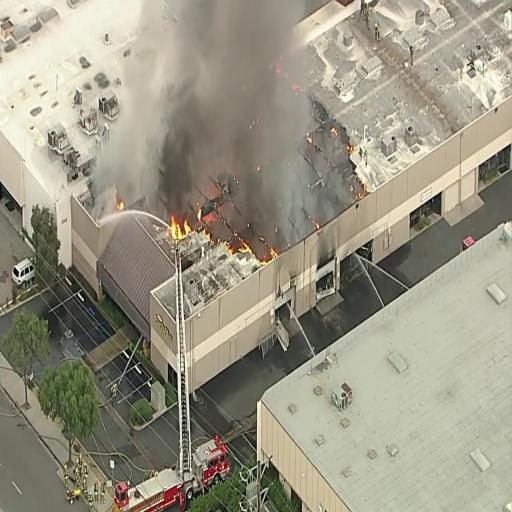smoke: (167, 2, 279, 192)
